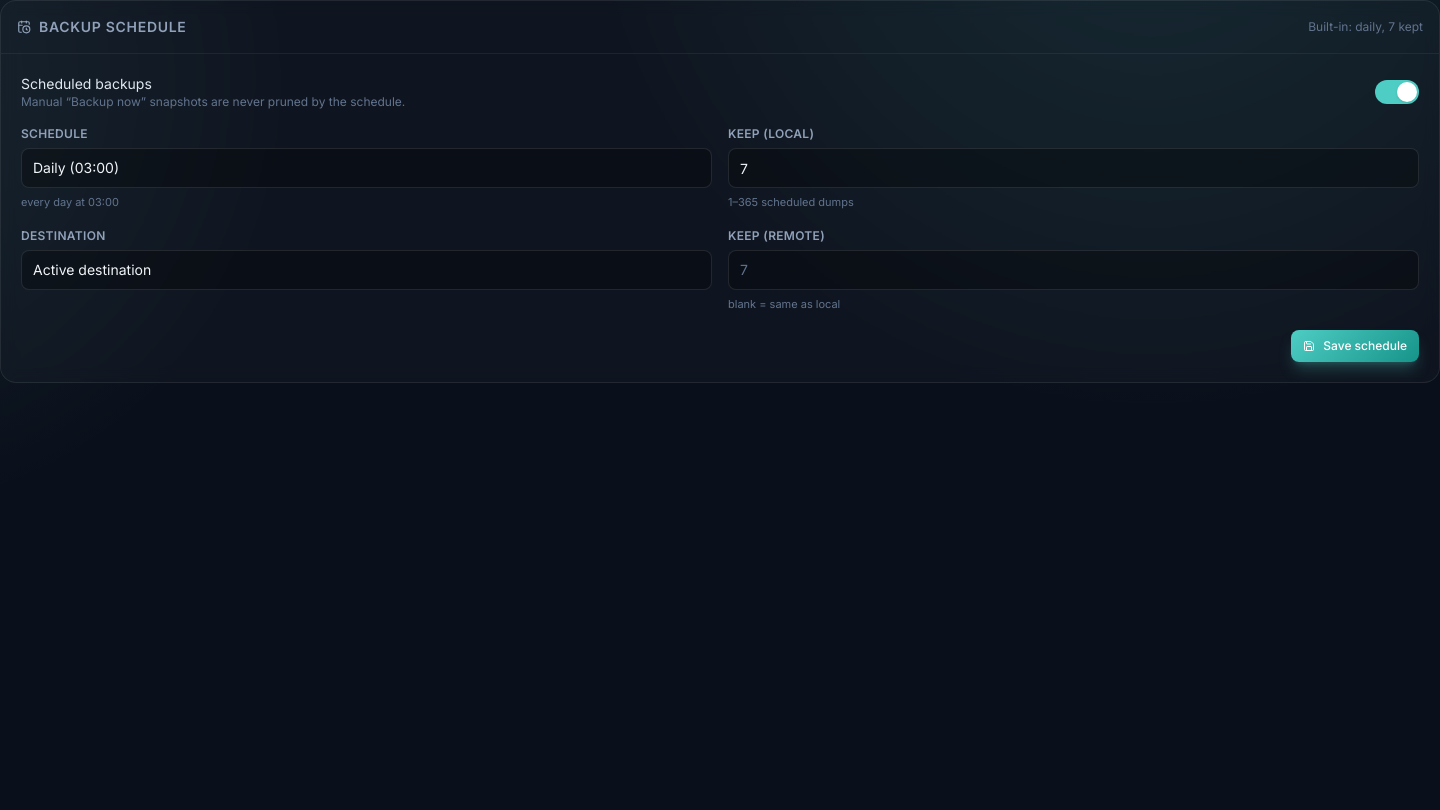
Test: BackupScheduleCard › saves a preset schedule with the retention count
Select "Every 6 hours" in the dropdown labelled "Schedule". click: (366, 168)
box: [21, 148, 712, 188]
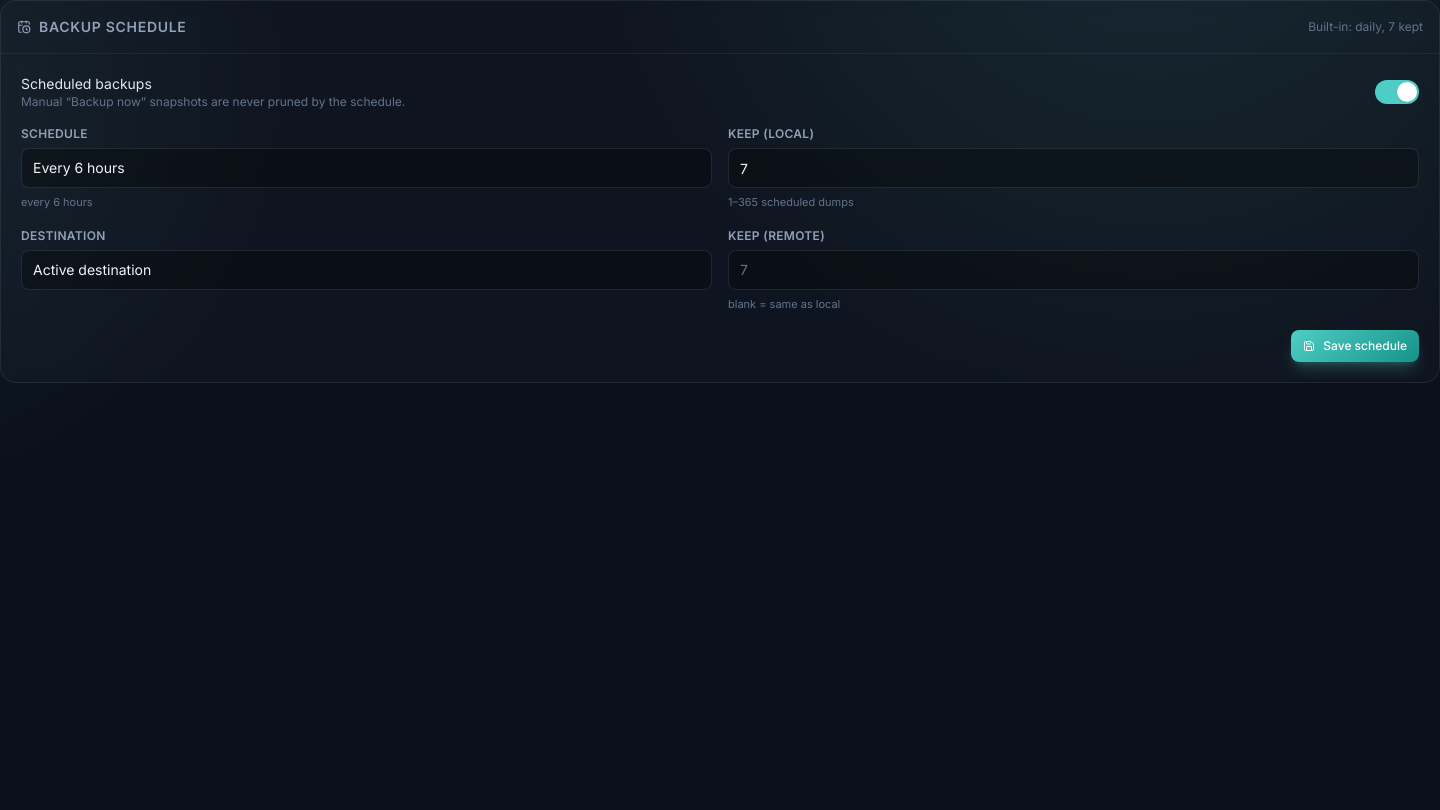
Replace the text in the number field labelled "Keep (local)" with "14". click: (1074, 168)
box: [728, 148, 1419, 188]
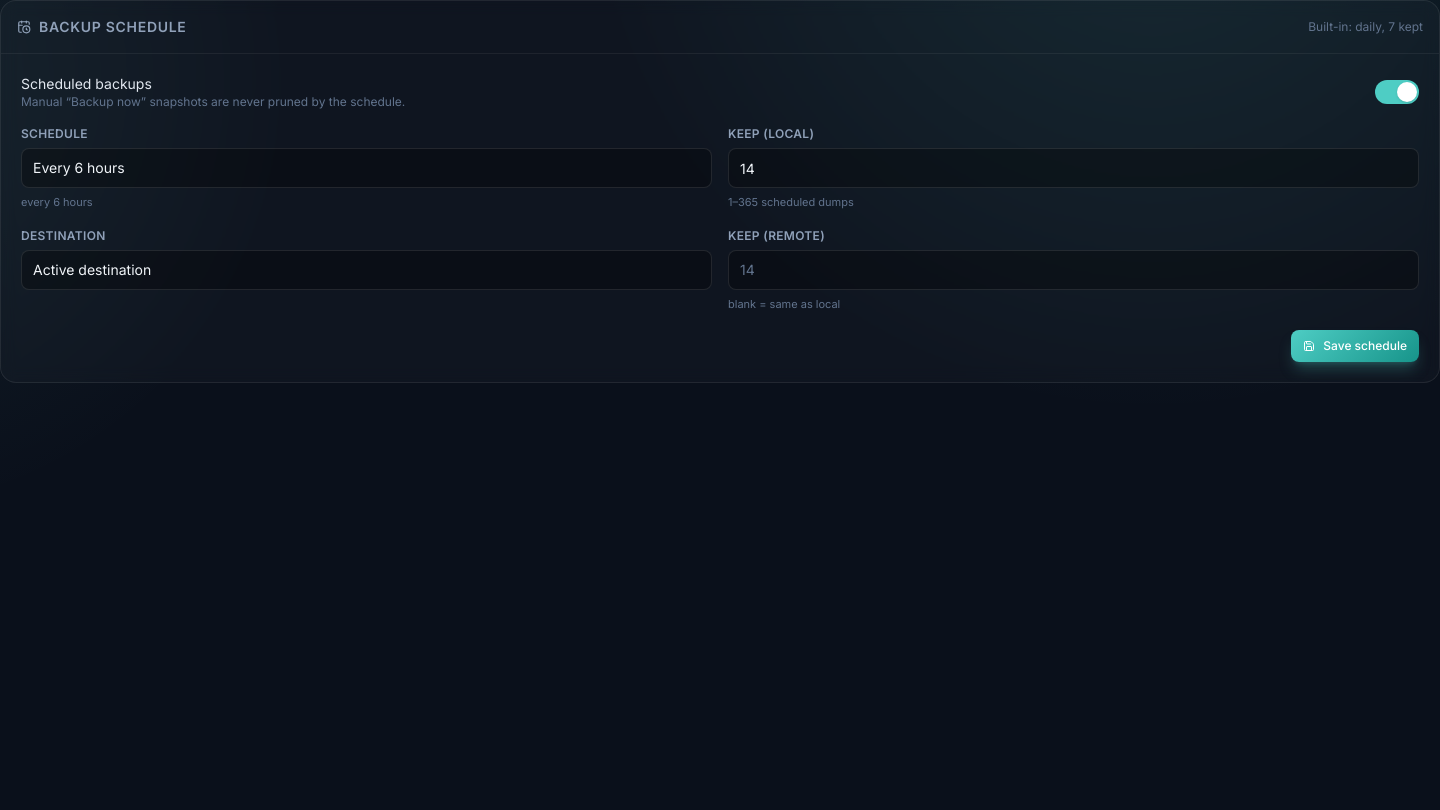
Click the button "Save schedule". click: (1355, 346)
box: [1291, 330, 1419, 362]
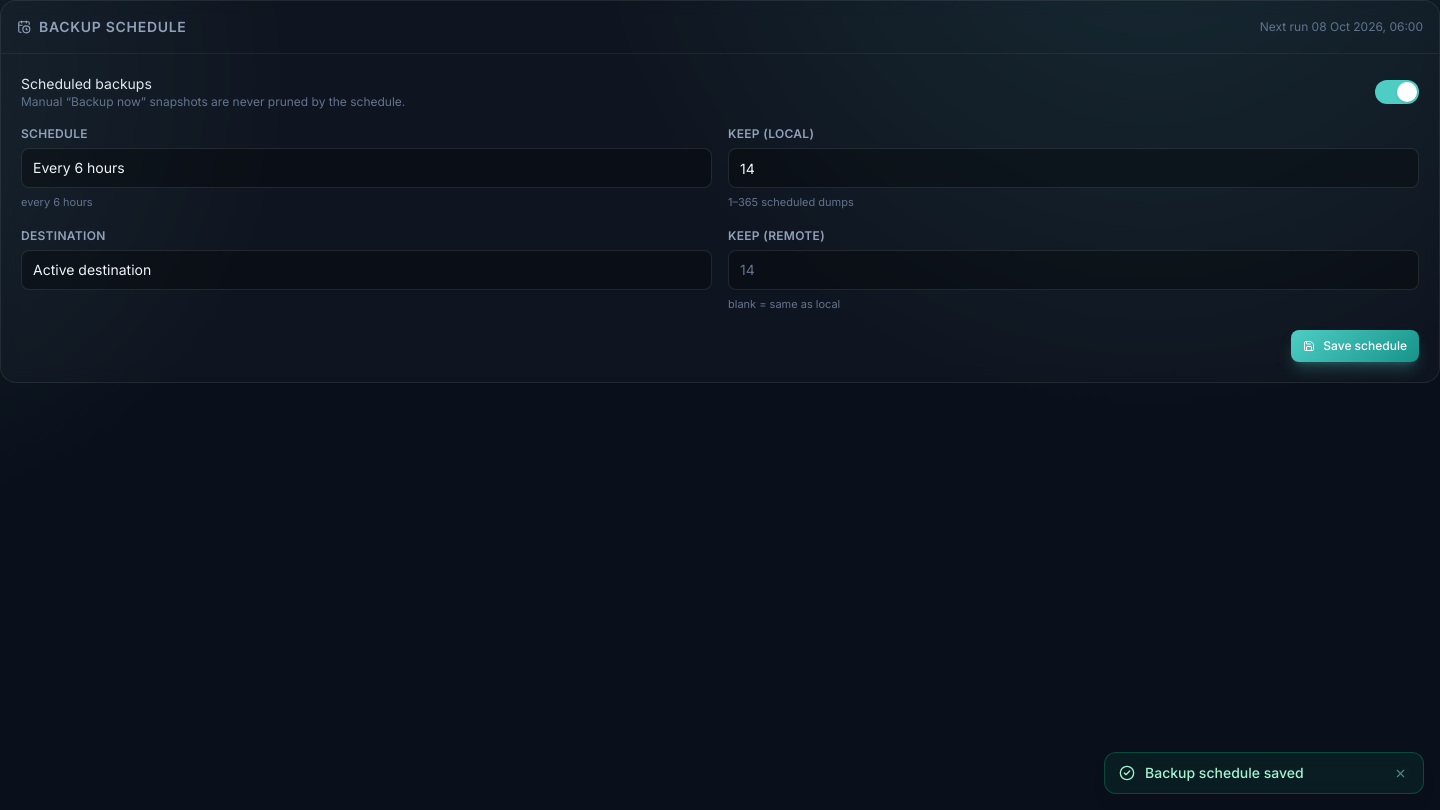
Result: the text with test id "backup-schedule-status" shows "Next run" at [1260, 19, 1423, 34]
